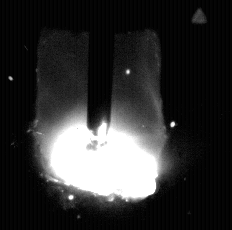arame: (87, 0, 113, 135)
poca: (34, 0, 163, 230)
